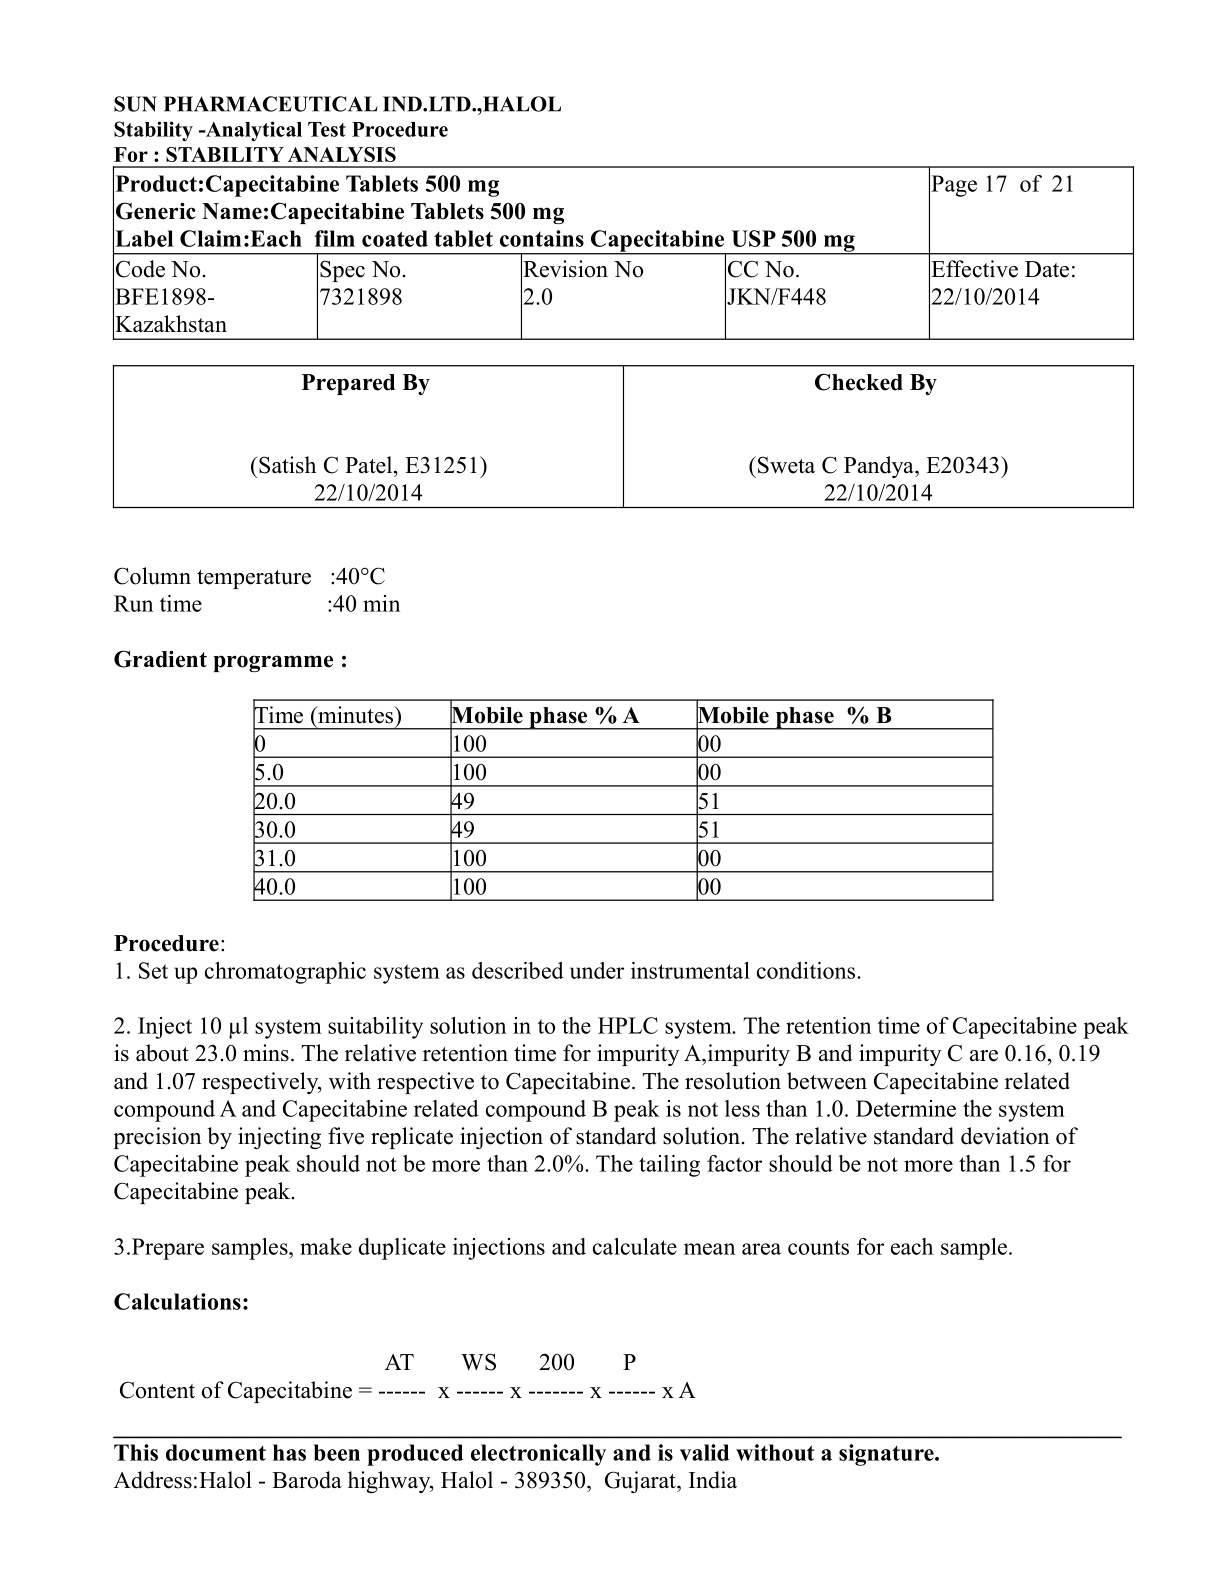full_lined: (252, 699, 994, 903), (111, 364, 1135, 509)
merged_cells: (111, 165, 1135, 341)
